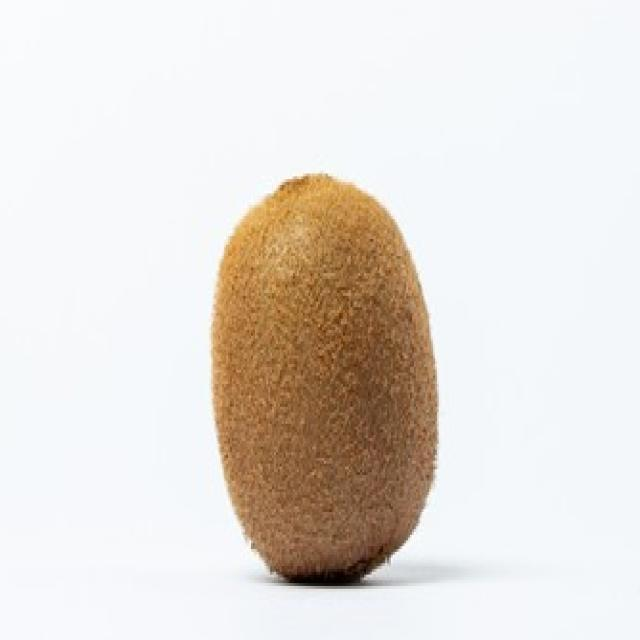kiwi: (213, 176, 439, 583)
